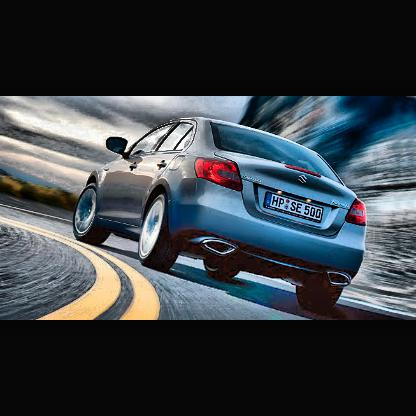Suzuki Kizashi Sedan 2012: (74, 118, 368, 311)
